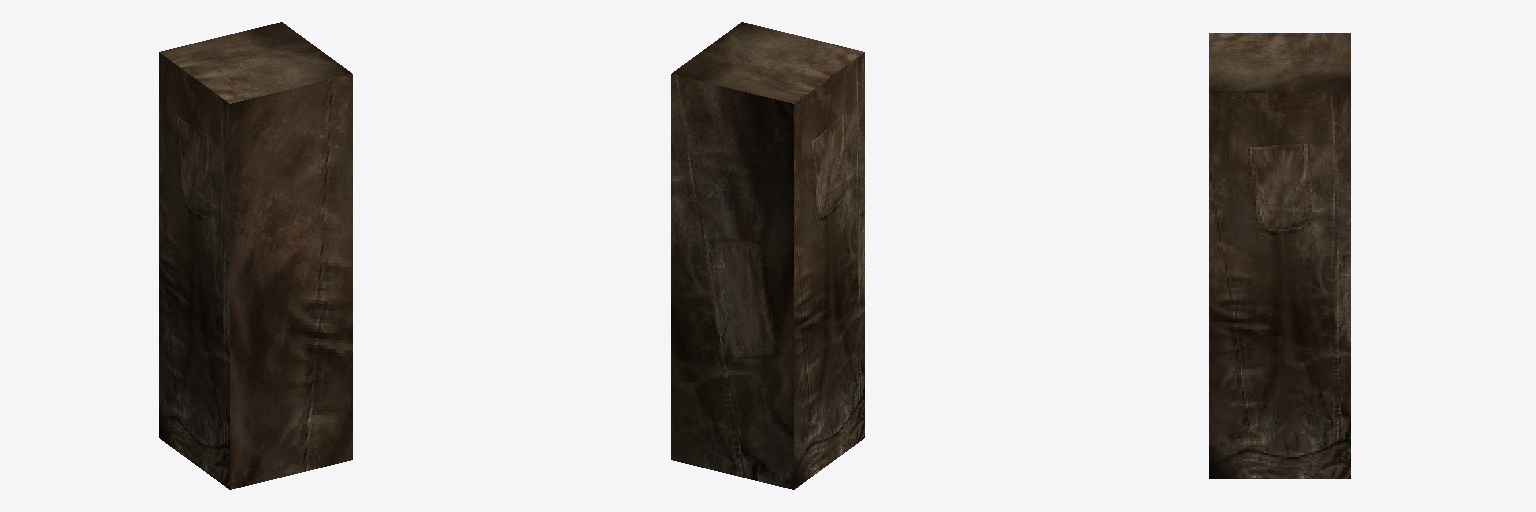
3 renders of one model, left to right at view 1: azimuth 30°, elevation 25°; view 2: azimuth 150°, elevation 25°; view 3: azimuth 270°, elevation 25°, orthographic.
Visible parts, largest first — view 1: arm_jacket_arm_Cube.001; view 2: arm_jacket_arm_Cube.001; view 3: arm_jacket_arm_Cube.001.
Part boxes in pixels (x1,y1,x2,y2): arm_jacket_arm_Cube.001: (159,22,352,489); arm_jacket_arm_Cube.001: (671,22,864,489); arm_jacket_arm_Cube.001: (1209,33,1350,478).
Bounding box in the file's own units: 1 × 3 × 1.
Materials: 1 (1 with a texture image).